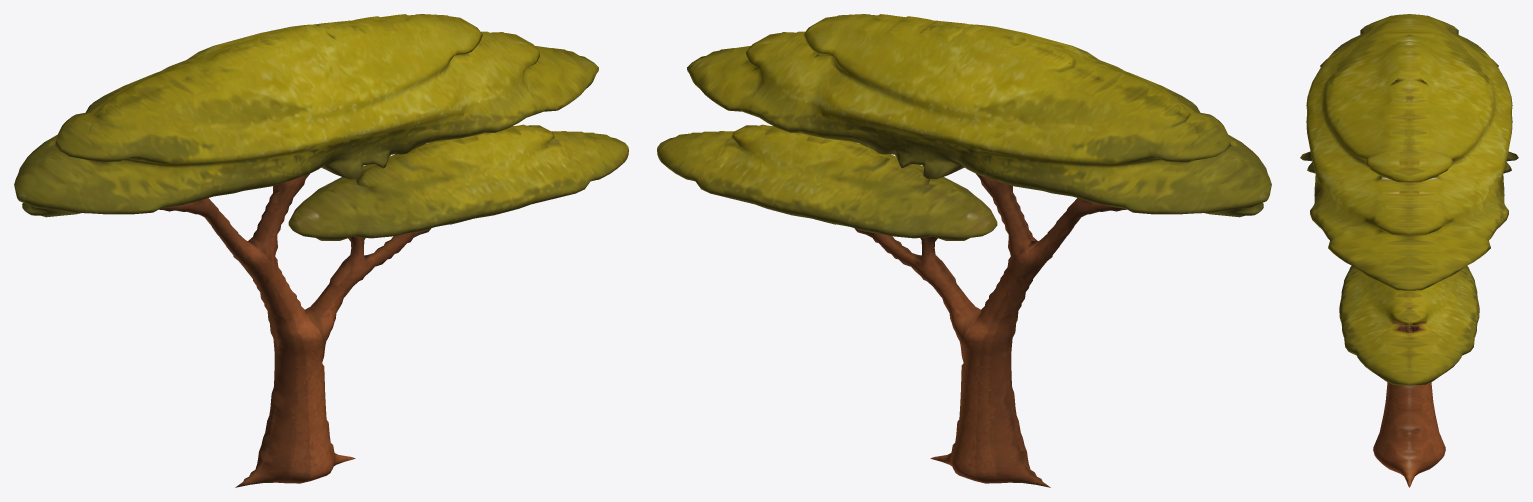
The model's file is acacia_two.glb.
3 views of the same model, side by side, from view 1: azimuth 30°, elevation 25°; view 2: azimuth 150°, elevation 25°; view 3: azimuth 270°, elevation 25° (orthographic). The views are drawn at different scales.
Parts seen in each view (by area): view 1: acacia_two; view 2: acacia_two; view 3: acacia_two.
Boxes of the visible parts, box(x1,y1,x2,y2) form: acacia_two: box(14, 14, 628, 487); acacia_two: box(657, 14, 1271, 487); acacia_two: box(1300, 14, 1518, 487).
Size of the model in its own units: 6.35 by 4.39 by 2.2.
1 material, 1 textured.
